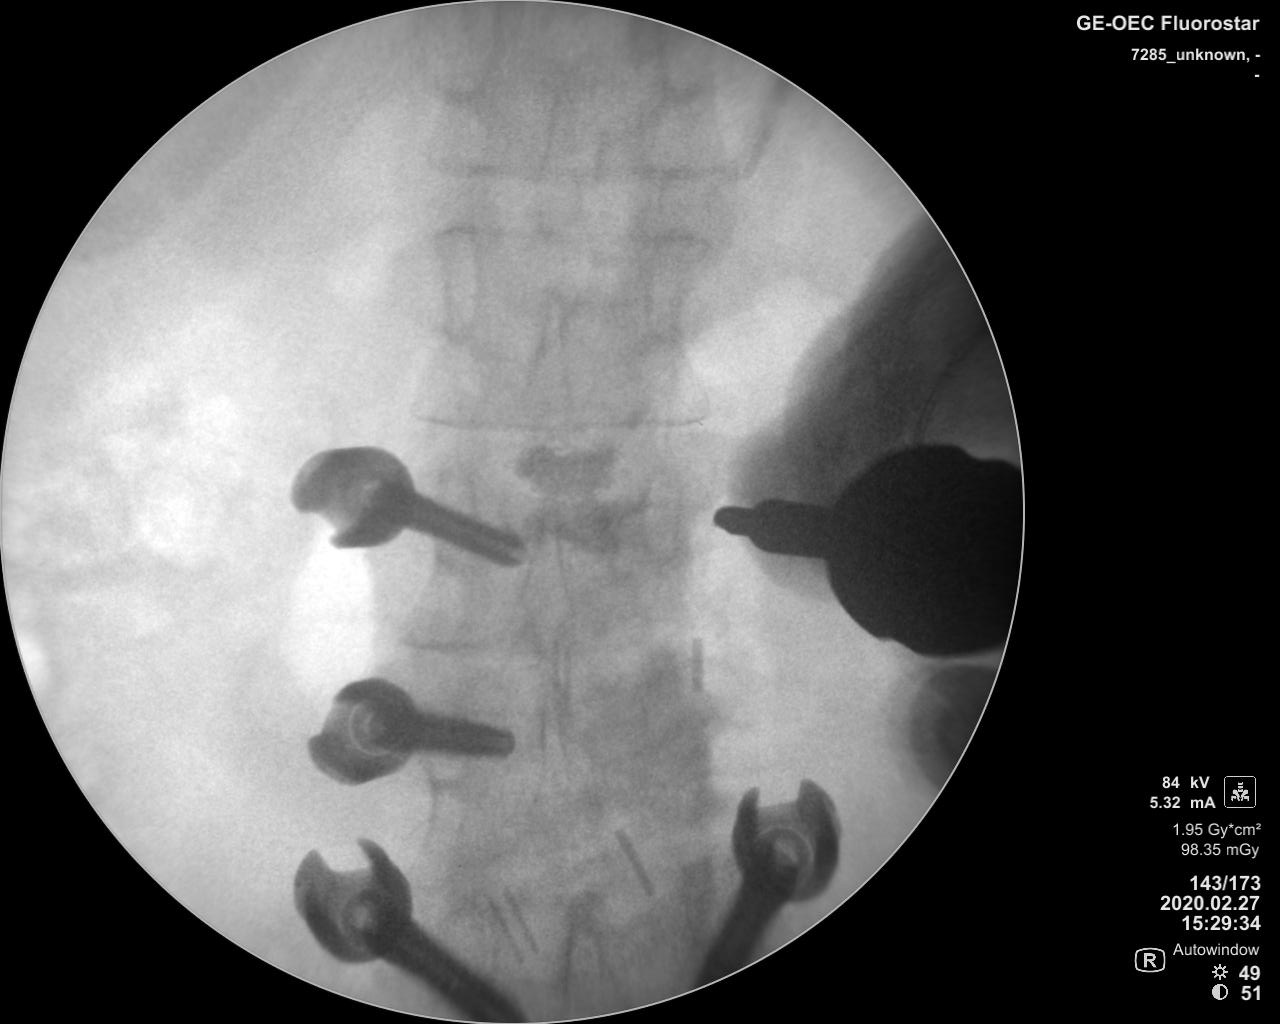eyes: (424, 9, 495, 98), (434, 225, 479, 340), (639, 469, 686, 563), (646, 234, 686, 338), (656, 25, 707, 99)
line: (426, 146, 745, 183), (412, 405, 724, 433)
nose: (519, 280, 575, 443), (530, 82, 582, 243), (521, 492, 574, 654)
